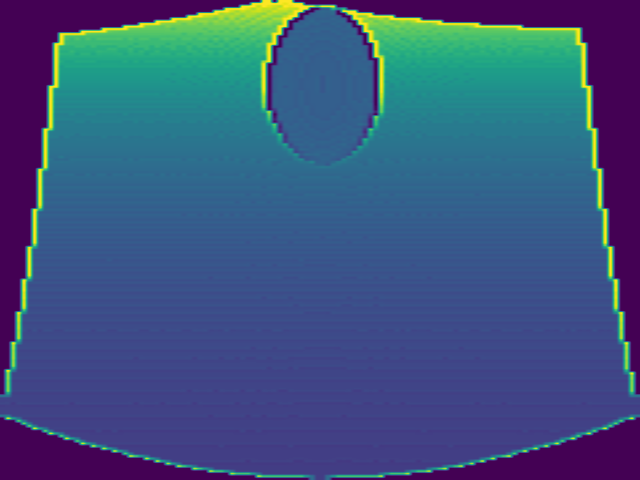sphere: (261, 7, 384, 165)
